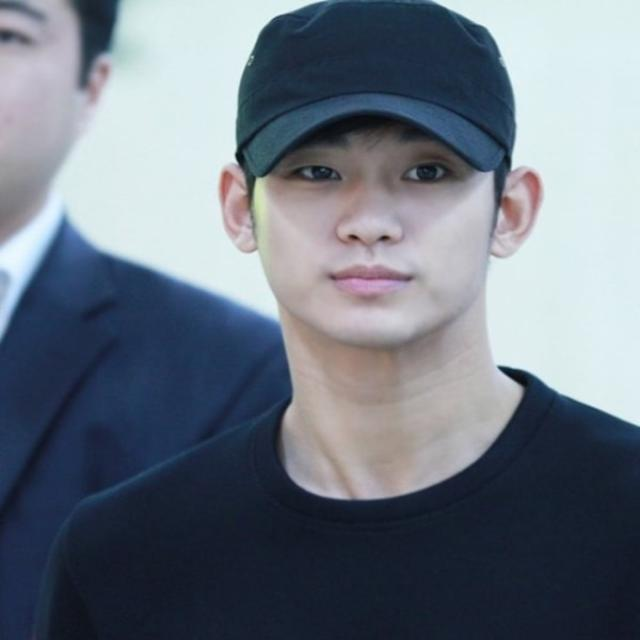Cap: (231, 1, 522, 182)
